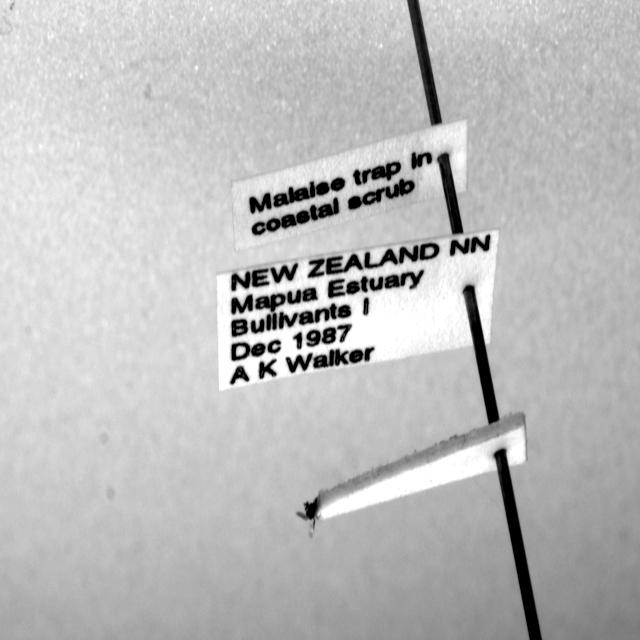typed_label: (218, 231, 499, 390), (231, 120, 468, 249)
